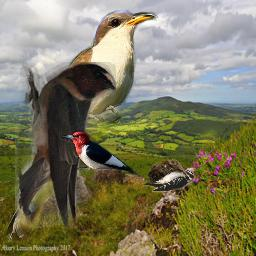Cuckoo: (0, 6, 159, 248)
Swallow: (15, 62, 116, 228)
Woodpecker: (60, 130, 140, 178), (143, 168, 197, 193)
